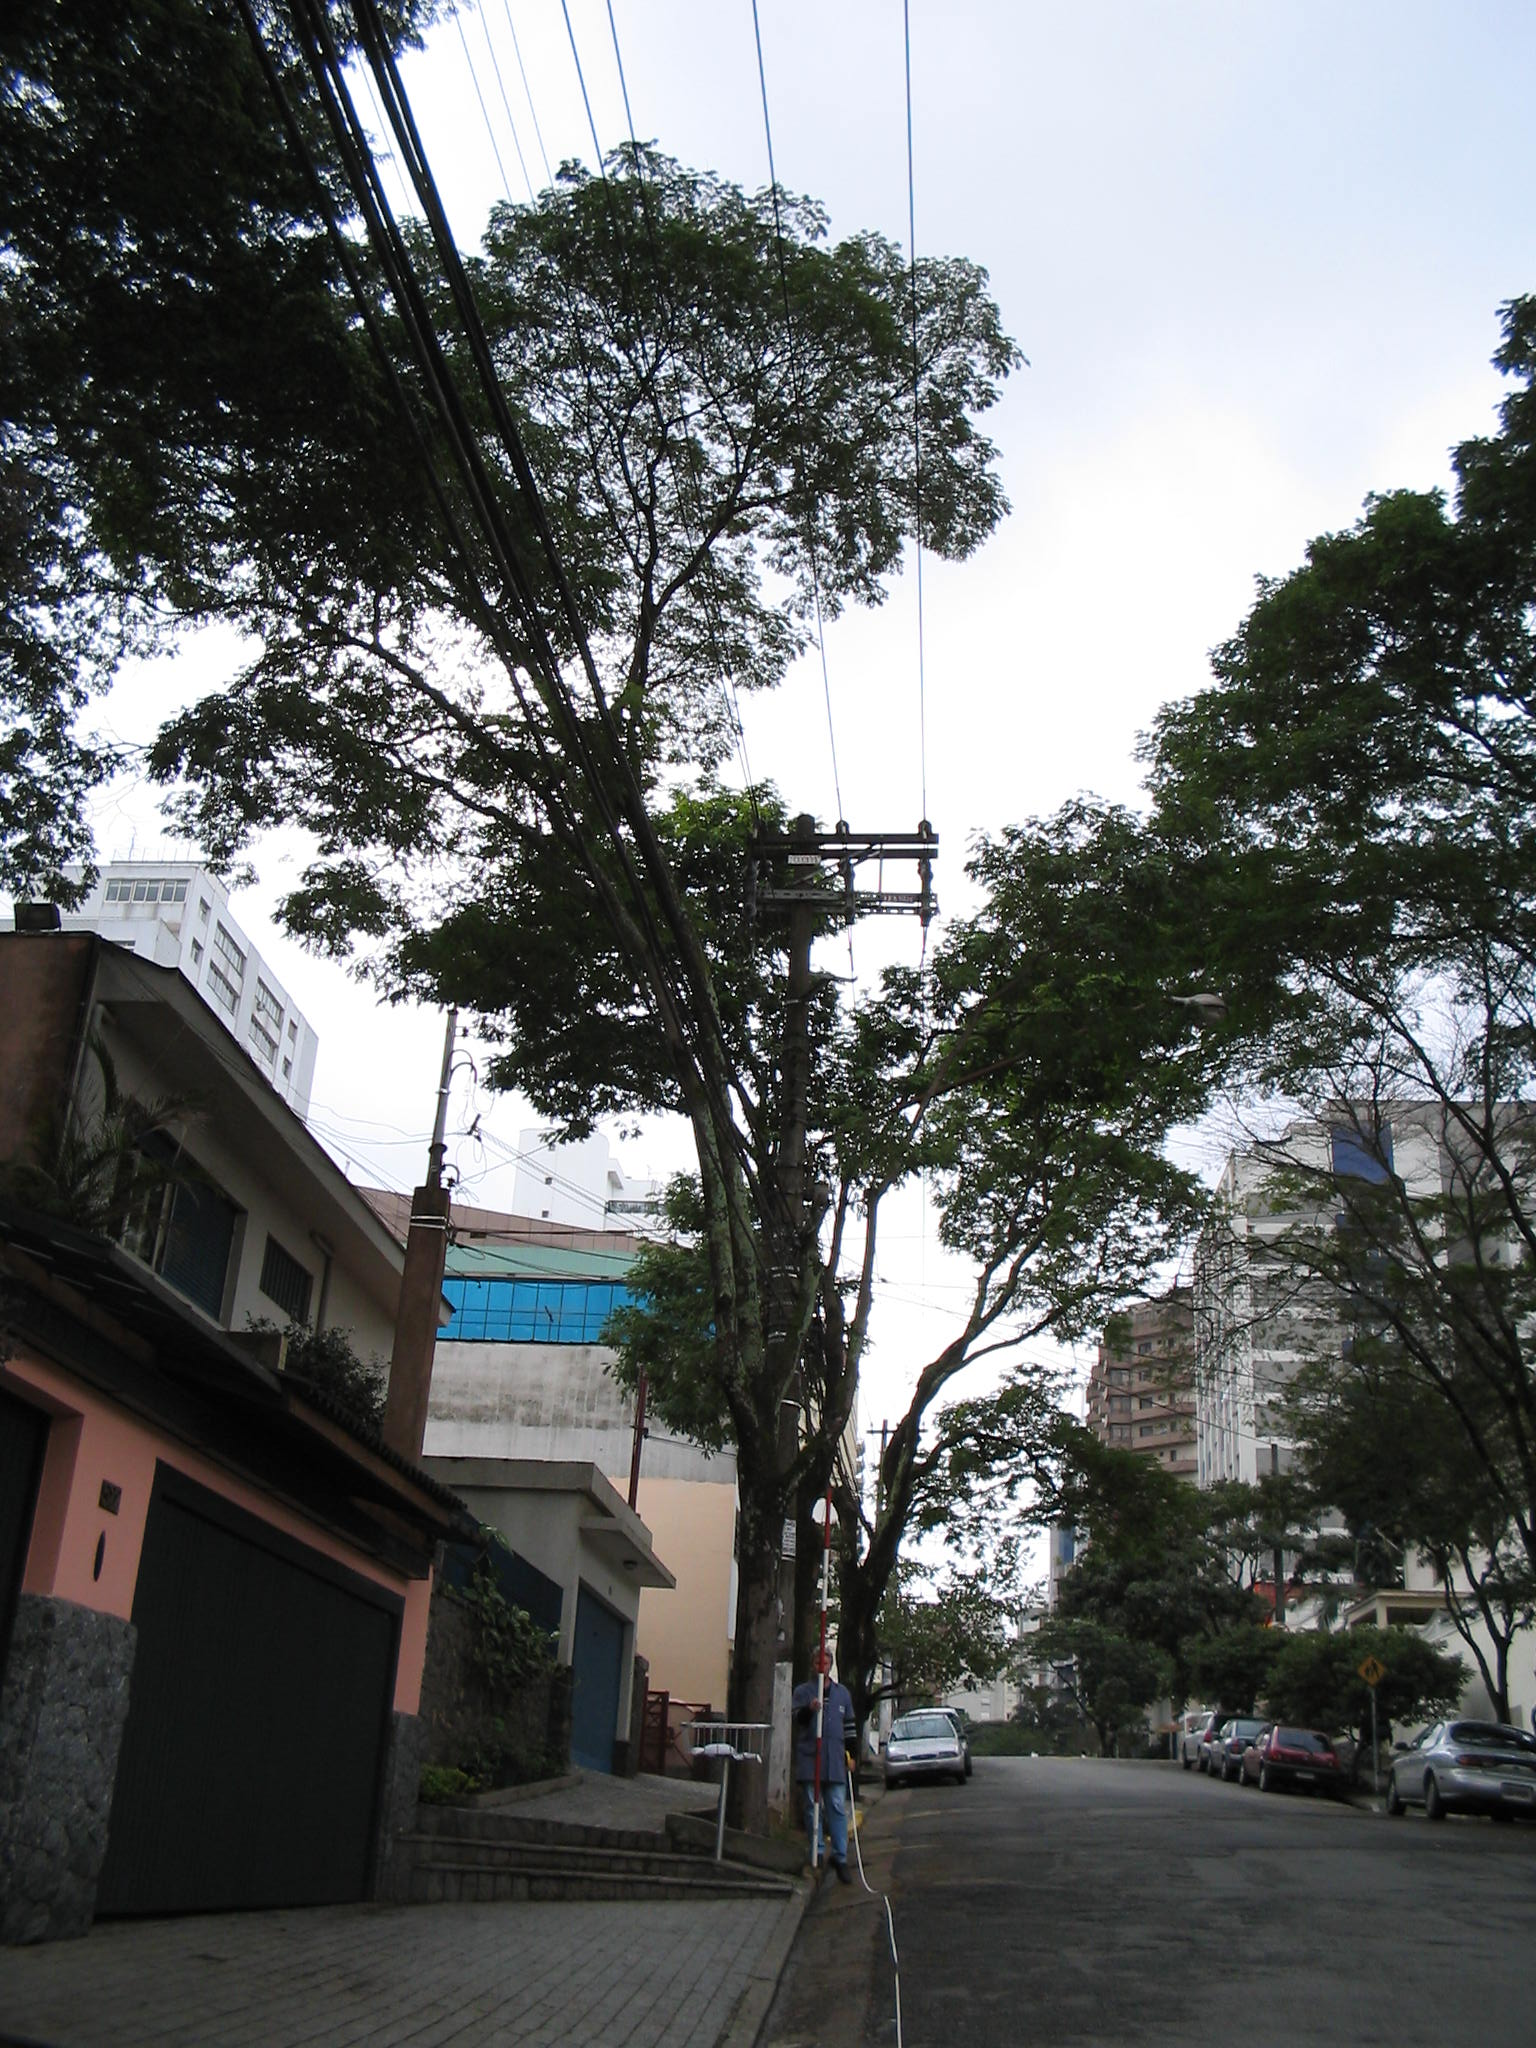stem: (703, 1467, 799, 1848)
stick: (787, 1488, 857, 1885)
tree: (179, 123, 1396, 1859)
